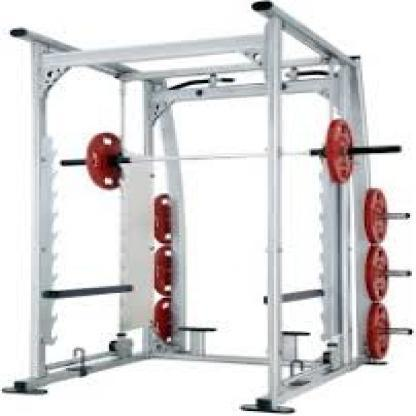smith machine: (5, 2, 406, 411)
